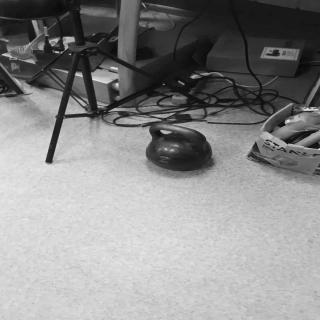kettlebell: (145, 122, 217, 175)
